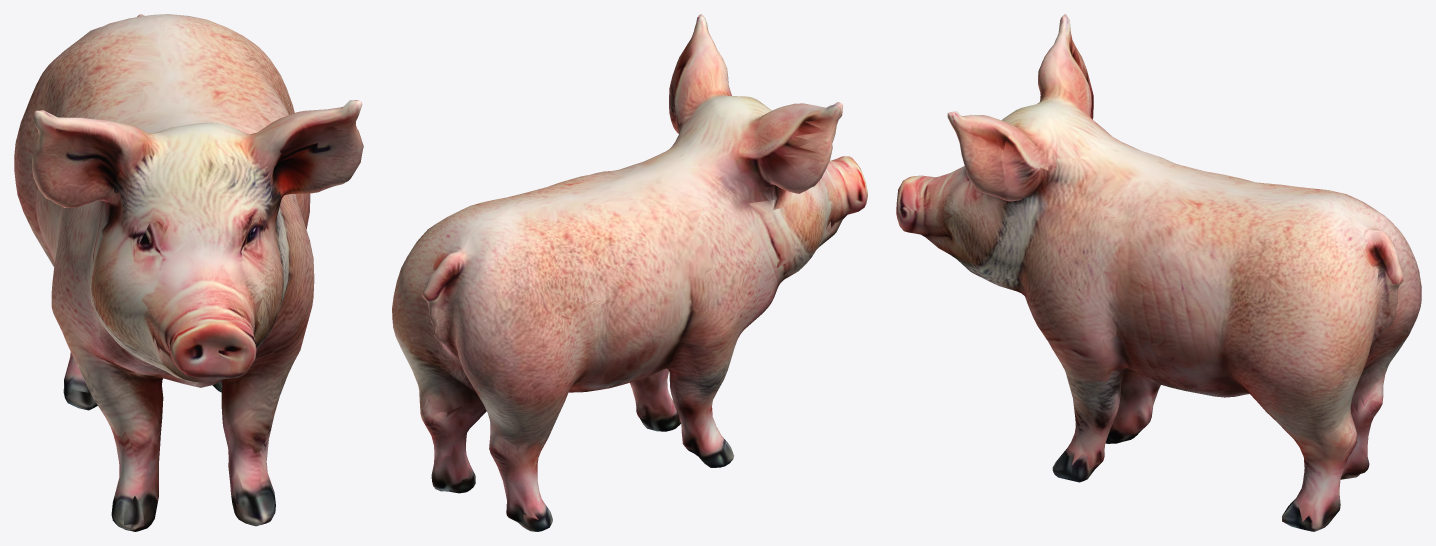
The model's file is porco.glb.
The picture shows the model from 3 angles, left to right: view 1: azimuth 30°, elevation 25°; view 2: azimuth 150°, elevation 25°; view 3: azimuth 270°, elevation 25°; orthographic projection. The views are drawn at different scales.
Parts seen in each view (by area): view 1: Pig; view 2: Pig; view 3: Pig.
Part boxes in pixels (x1,y1,x2,y2): Pig: (14, 14, 363, 531); Pig: (392, 14, 867, 531); Pig: (896, 14, 1421, 531).
Size of the model in its own units: 0.8233 by 0.9 by 1.13.
Materials: 1 (1 with a texture image).
